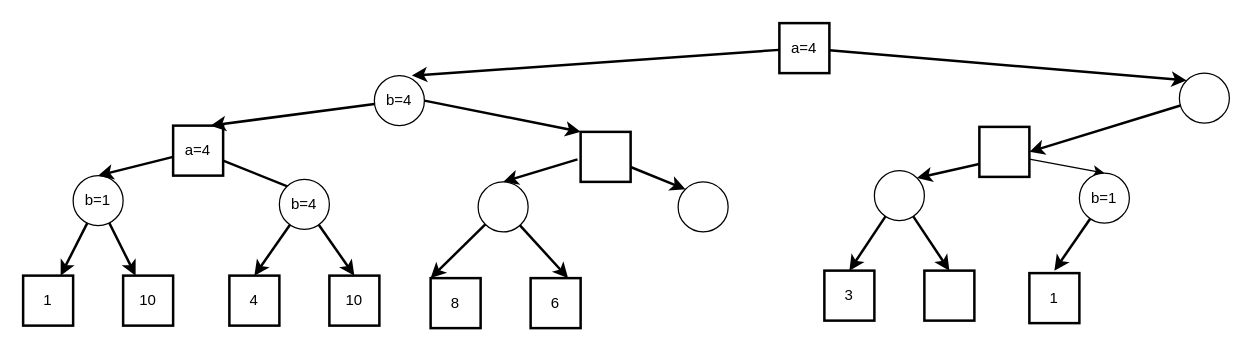
This 1251x350 diagram has some shape labels left out. Here are the shapes that lost their labels. From the top down, the centre of each, then its label:
At point (1203, 97): "v=inf".
At point (605, 156): "a=6".
At point (1004, 151): "a=3".
At point (502, 206): "b=6".
At point (898, 195): "b=3".
